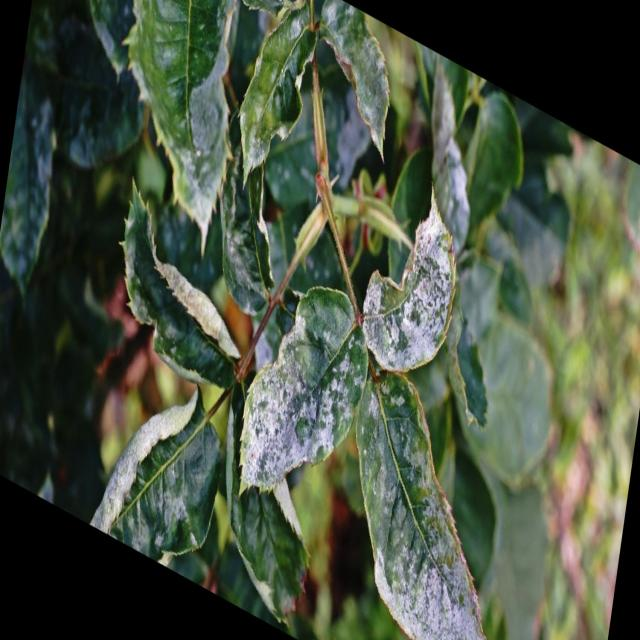Powdery Mildew: (237, 182, 456, 497), (237, 284, 368, 497), (89, 385, 199, 537)
